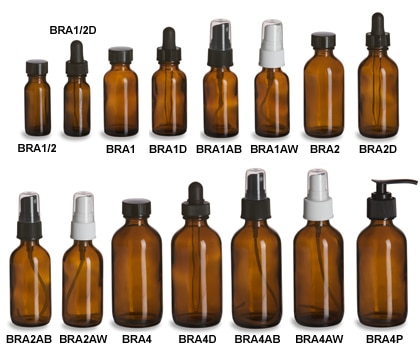glass_bottle: (354, 172, 420, 332), (286, 165, 350, 329), (228, 164, 287, 331), (169, 181, 224, 329), (109, 197, 165, 330), (354, 11, 405, 140), (7, 190, 54, 329), (60, 189, 105, 330), (200, 18, 245, 140), (302, 29, 349, 140), (251, 17, 291, 139), (147, 25, 189, 139), (99, 44, 144, 139), (58, 39, 93, 138), (21, 58, 53, 139)
